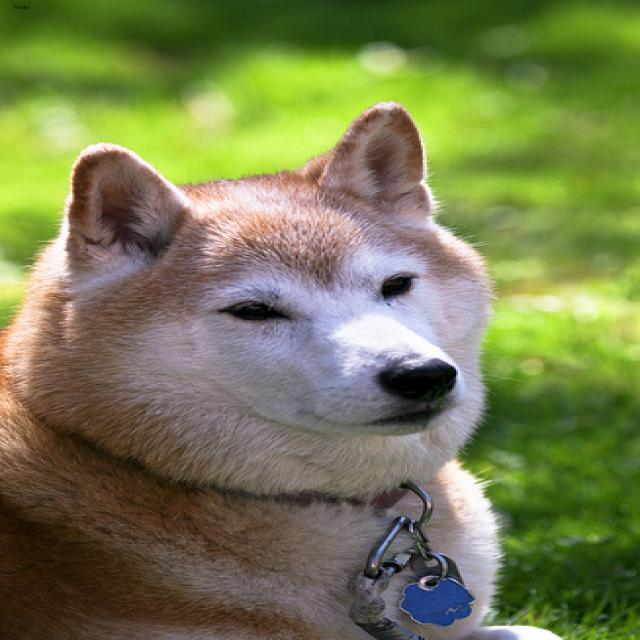dog-shiba_inu: (2, 92, 577, 637)
